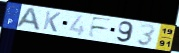3: (136, 24, 159, 47)
4: (68, 14, 86, 38)
9: (115, 21, 136, 43)
A: (13, 6, 42, 32)
F: (86, 16, 114, 39)
K: (42, 10, 62, 34)
